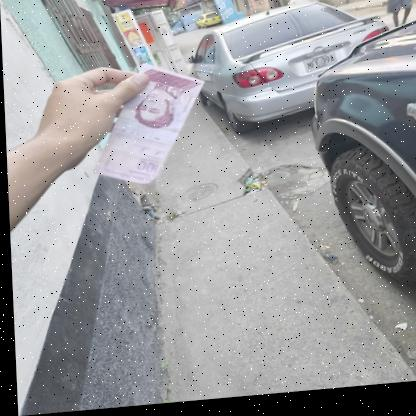one_hundred-front-vef: (86, 60, 207, 191)
